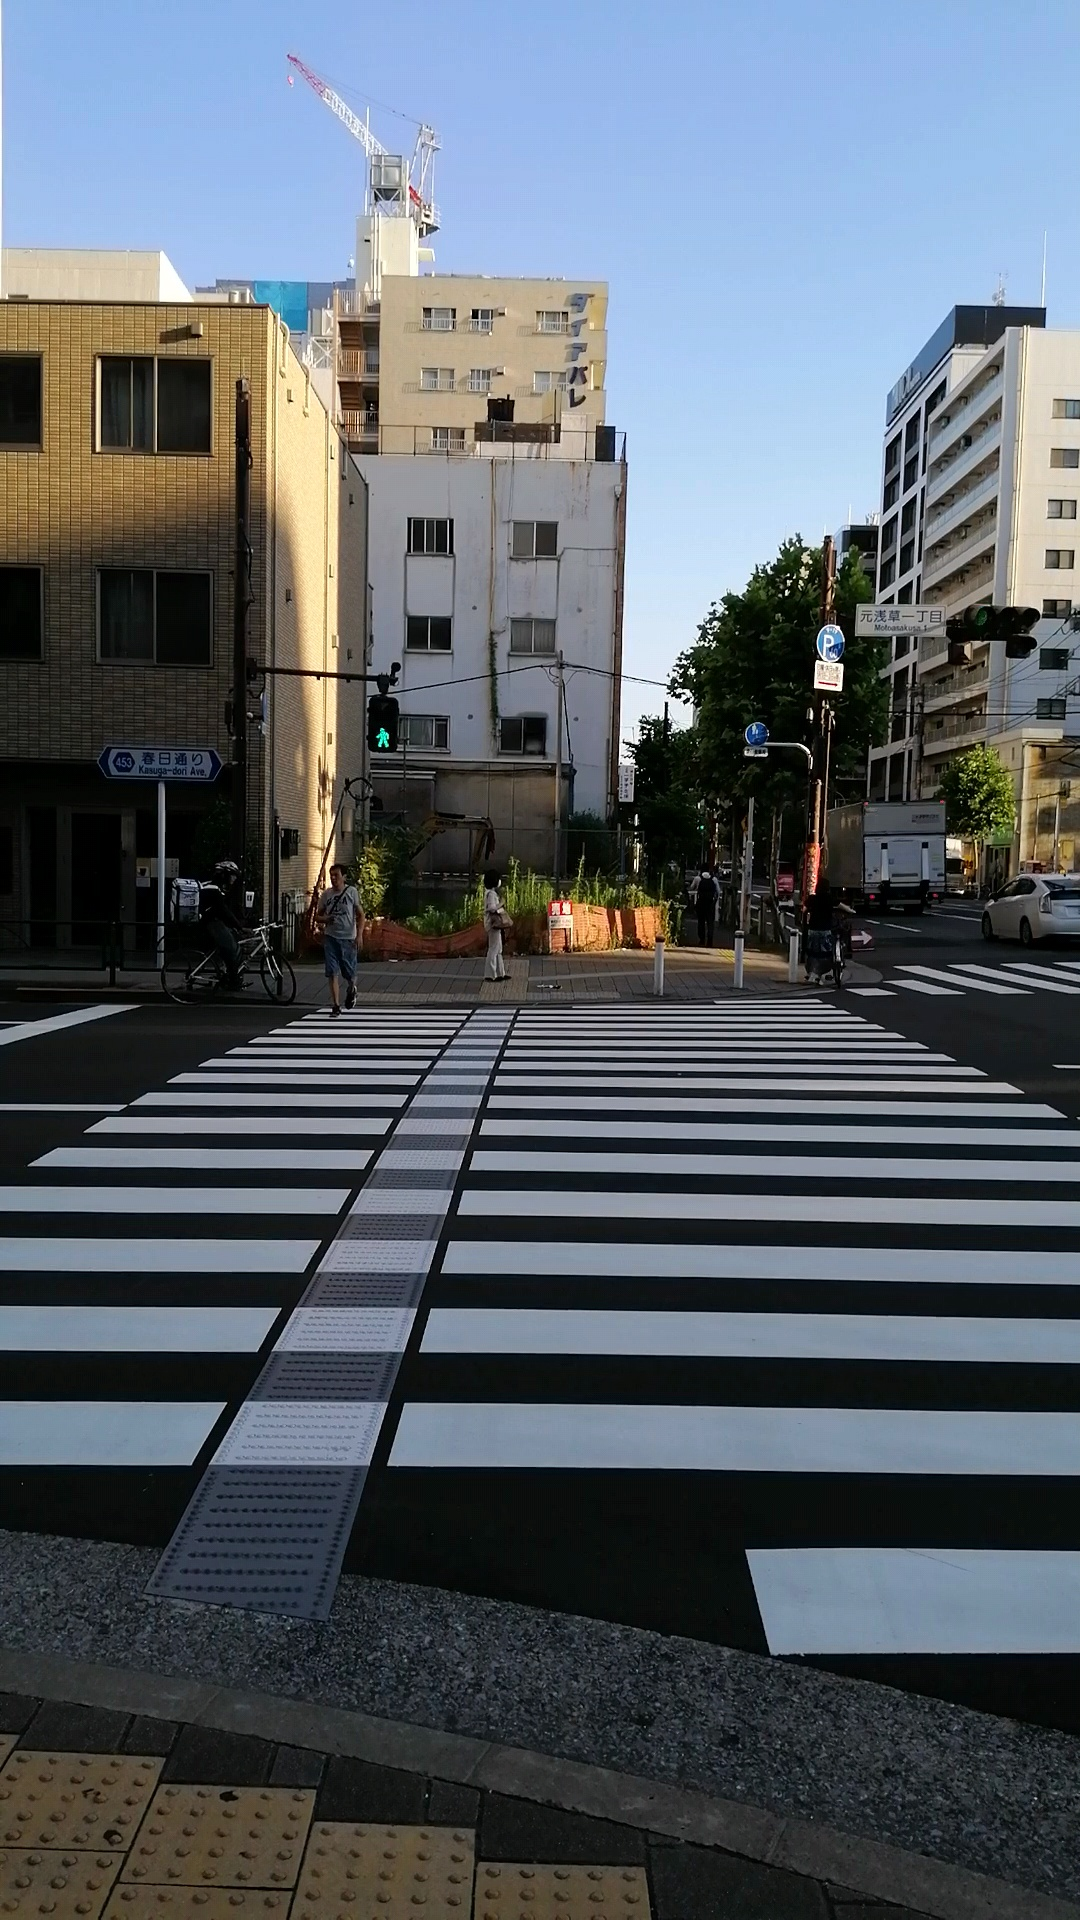green: (368, 694, 398, 756)
